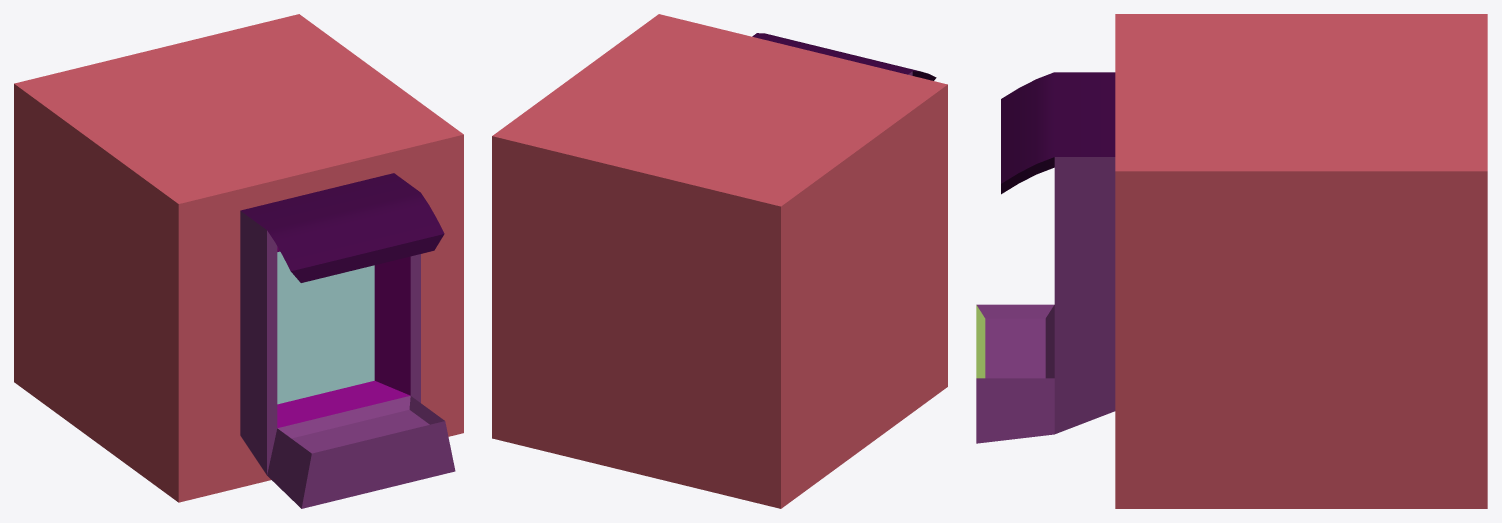
File: 1Middle Block pinkandpurple.fbx
3 renders of one model, left to right at view 1: azimuth 30°, elevation 25°; view 2: azimuth 150°, elevation 25°; view 3: azimuth 270°, elevation 25°, orthographic. The views are drawn at different scales.
Parts seen in each view (by area): view 1: pCube23, pCube22; view 2: pCube23, pCube22; view 3: pCube23, pCube22.
Part boxes in pixels (bbox=[...]): pCube23: bbox=[14, 14, 463, 502]; pCube22: bbox=[240, 173, 455, 508]; pCube23: bbox=[492, 14, 947, 508]; pCube22: bbox=[752, 33, 936, 80]; pCube23: bbox=[1115, 14, 1487, 508]; pCube22: bbox=[976, 72, 1115, 443].
Size of the model in its own units: 2 by 2 by 2.75.
